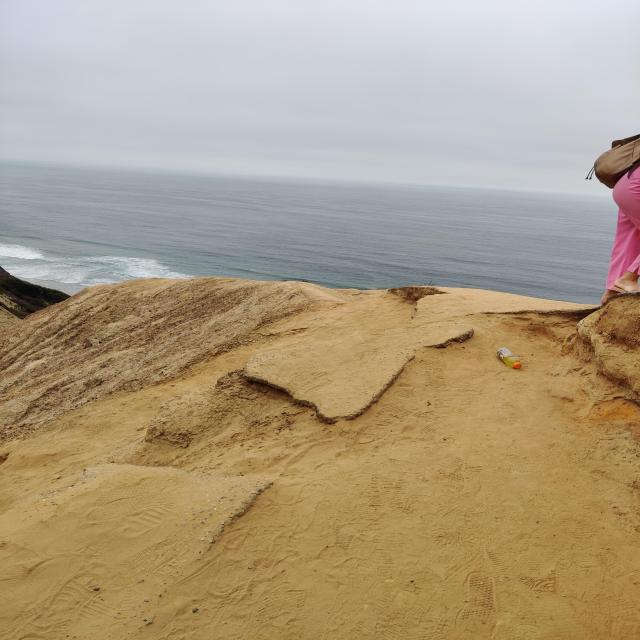litter: (497, 347, 522, 367)
